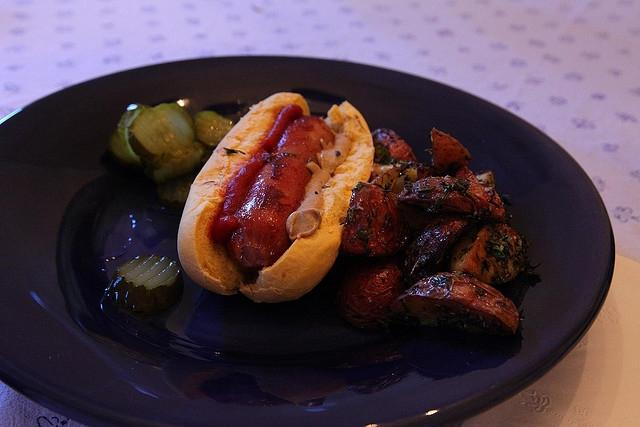potato: (390, 272, 520, 336), (404, 213, 482, 291), (339, 180, 415, 258), (450, 221, 540, 284), (342, 256, 412, 330), (398, 175, 490, 219), (454, 162, 508, 231), (431, 127, 474, 177), (372, 128, 418, 164), (396, 200, 436, 241), (372, 167, 404, 192), (400, 164, 436, 186), (475, 171, 496, 188)
